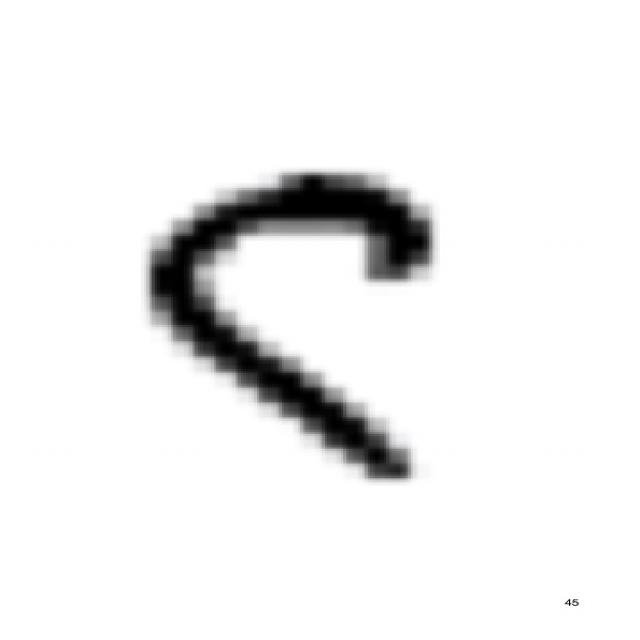2 -two-: (121, 158, 459, 492)
